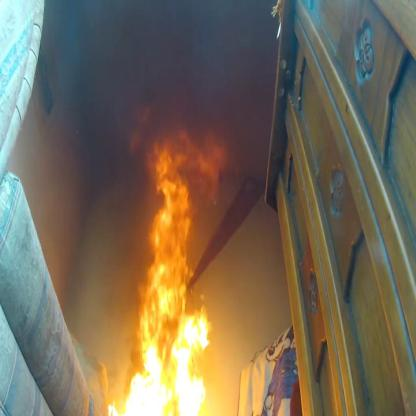fire: (106, 125, 227, 416)
